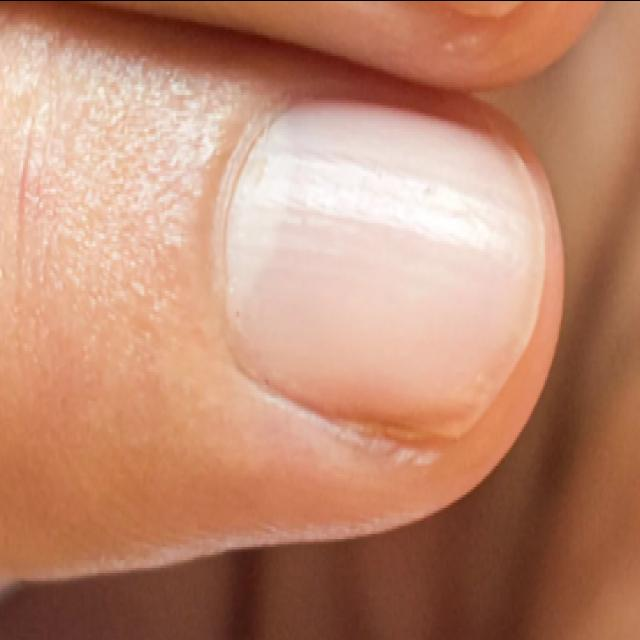Nail: (226, 107, 544, 436)
